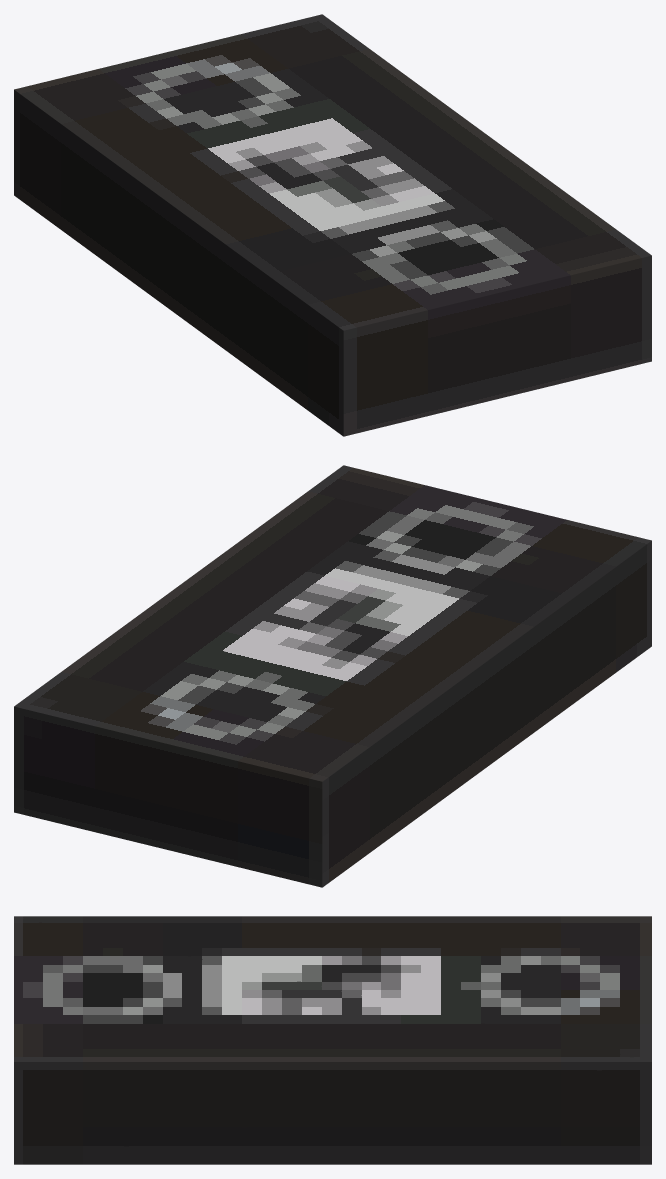
File: item_quest_vhs_factory101.glb
The picture shows the model from 3 angles, top to bottom: view 1: azimuth 30°, elevation 25°; view 2: azimuth 150°, elevation 25°; view 3: azimuth 270°, elevation 25°; orthographic projection. The views are drawn at different scales.
Parts seen in each view (by area): view 1: Cassets.002; view 2: Cassets.002; view 3: Cassets.002.
Boxes of the visible parts, box(x1,y1,x2,y2) form: Cassets.002: box(14, 14, 651, 436); Cassets.002: box(14, 465, 651, 887); Cassets.002: box(14, 916, 651, 1164).
Size of the model in its own units: 0.0883 by 0.029 by 0.1634.
Materials: 2 (1 with a texture image).
